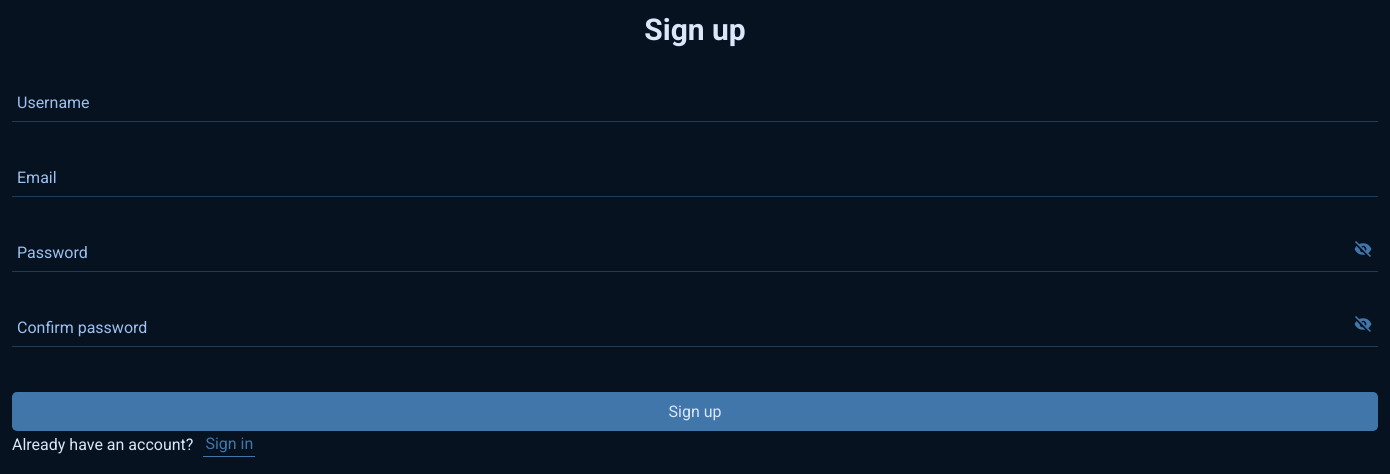
Scenario: Sign-up › spinner should appear in sign up button upon submission
Type "something" into the label with test id "username".
click(695, 102); type("something")  # box [12,82,1378,122]
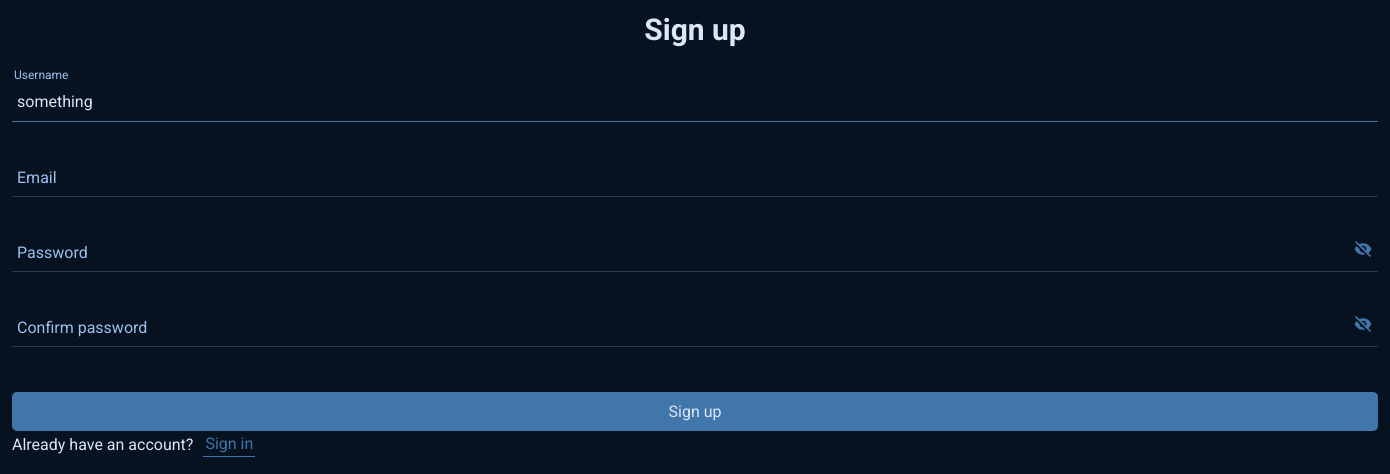
Type "something@gmail.com" into the label with test id "email".
click(695, 177); type("something@gmail.com")  # box [12,157,1378,197]
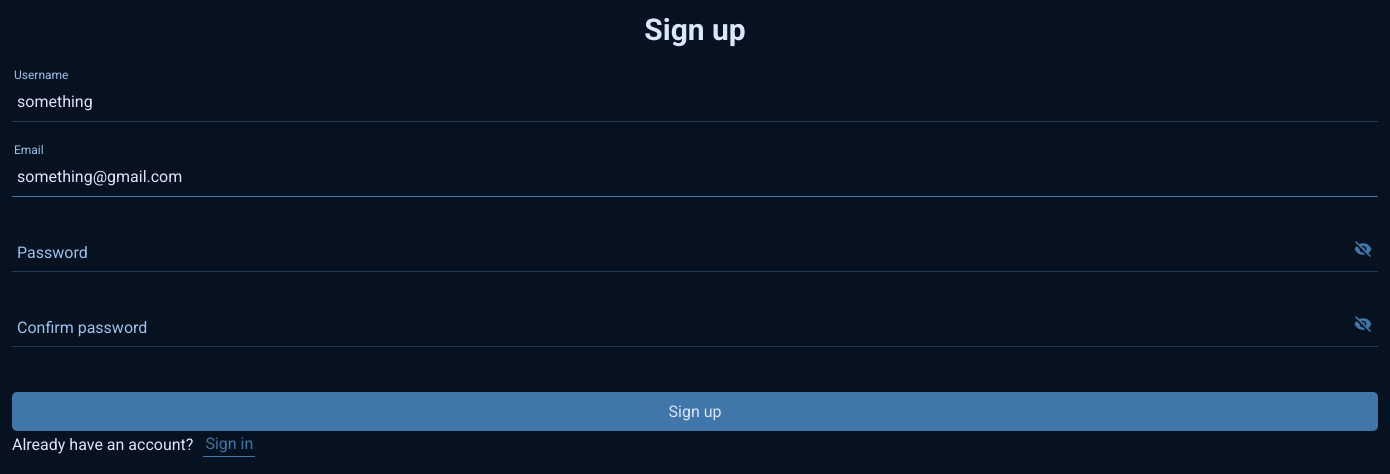
Type "somethingSomewhere123" into the label with test id "password".
click(695, 252); type("somethingSomewhere123")  # box [12,232,1378,272]
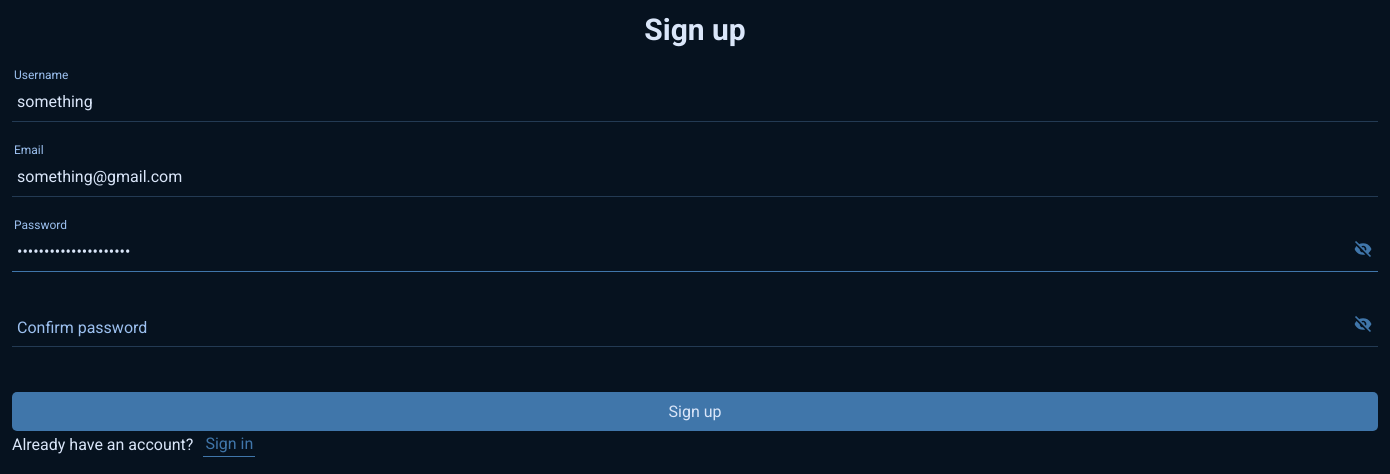
Type "somethingSomewhere123" into the label with test id "confirmPassword".
click(695, 327); type("somethingSomewhere123")  # box [12,307,1378,347]
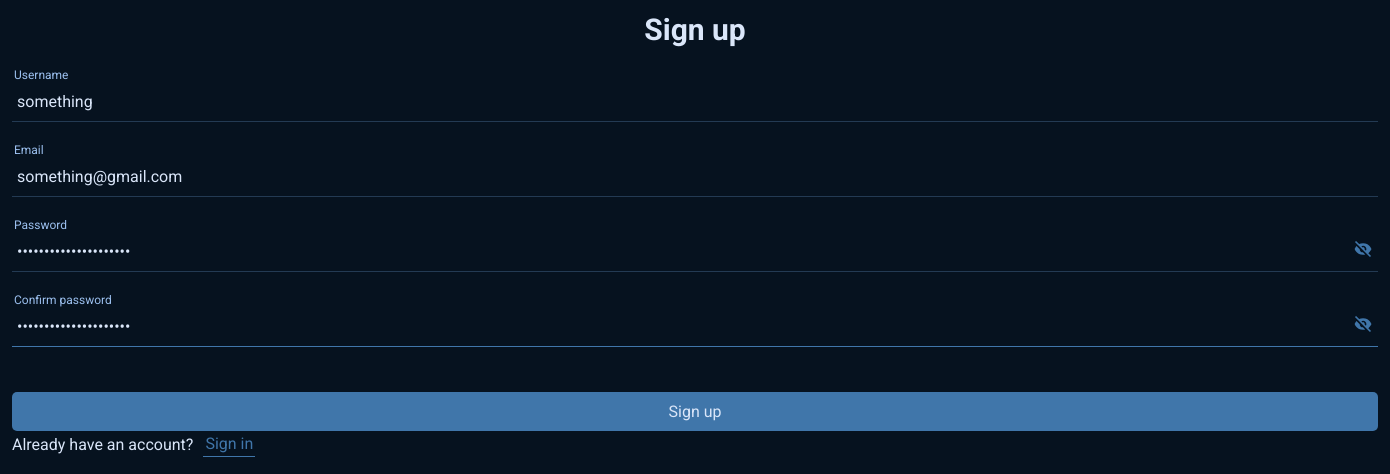
Click the button with test id "submit-btn".
click(695, 412)  # box [12,392,1378,431]
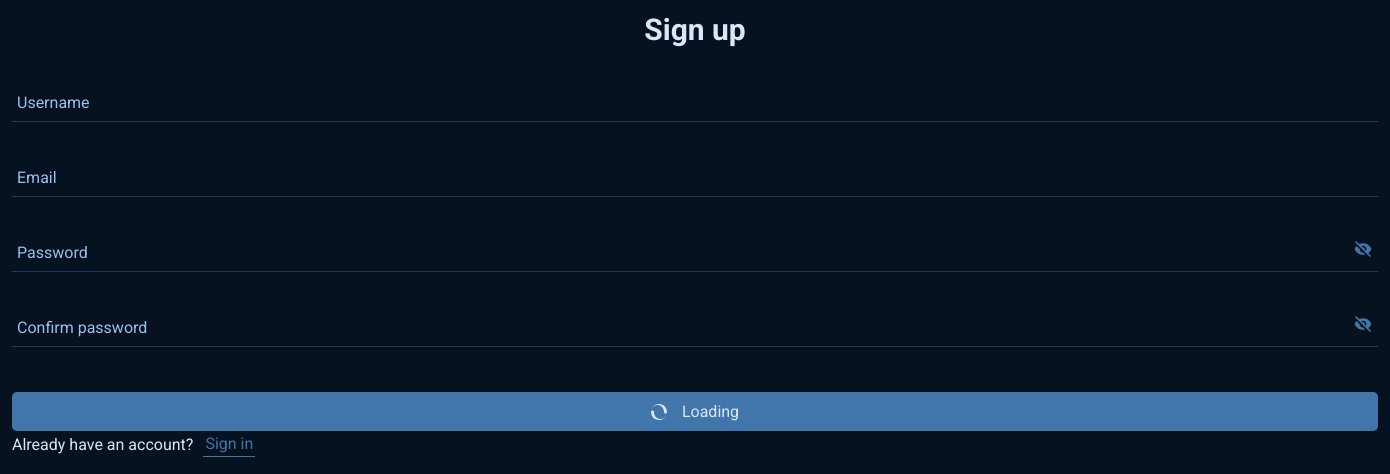
Now the element with test id "spinner" is shown, box [651,404,667,420]
